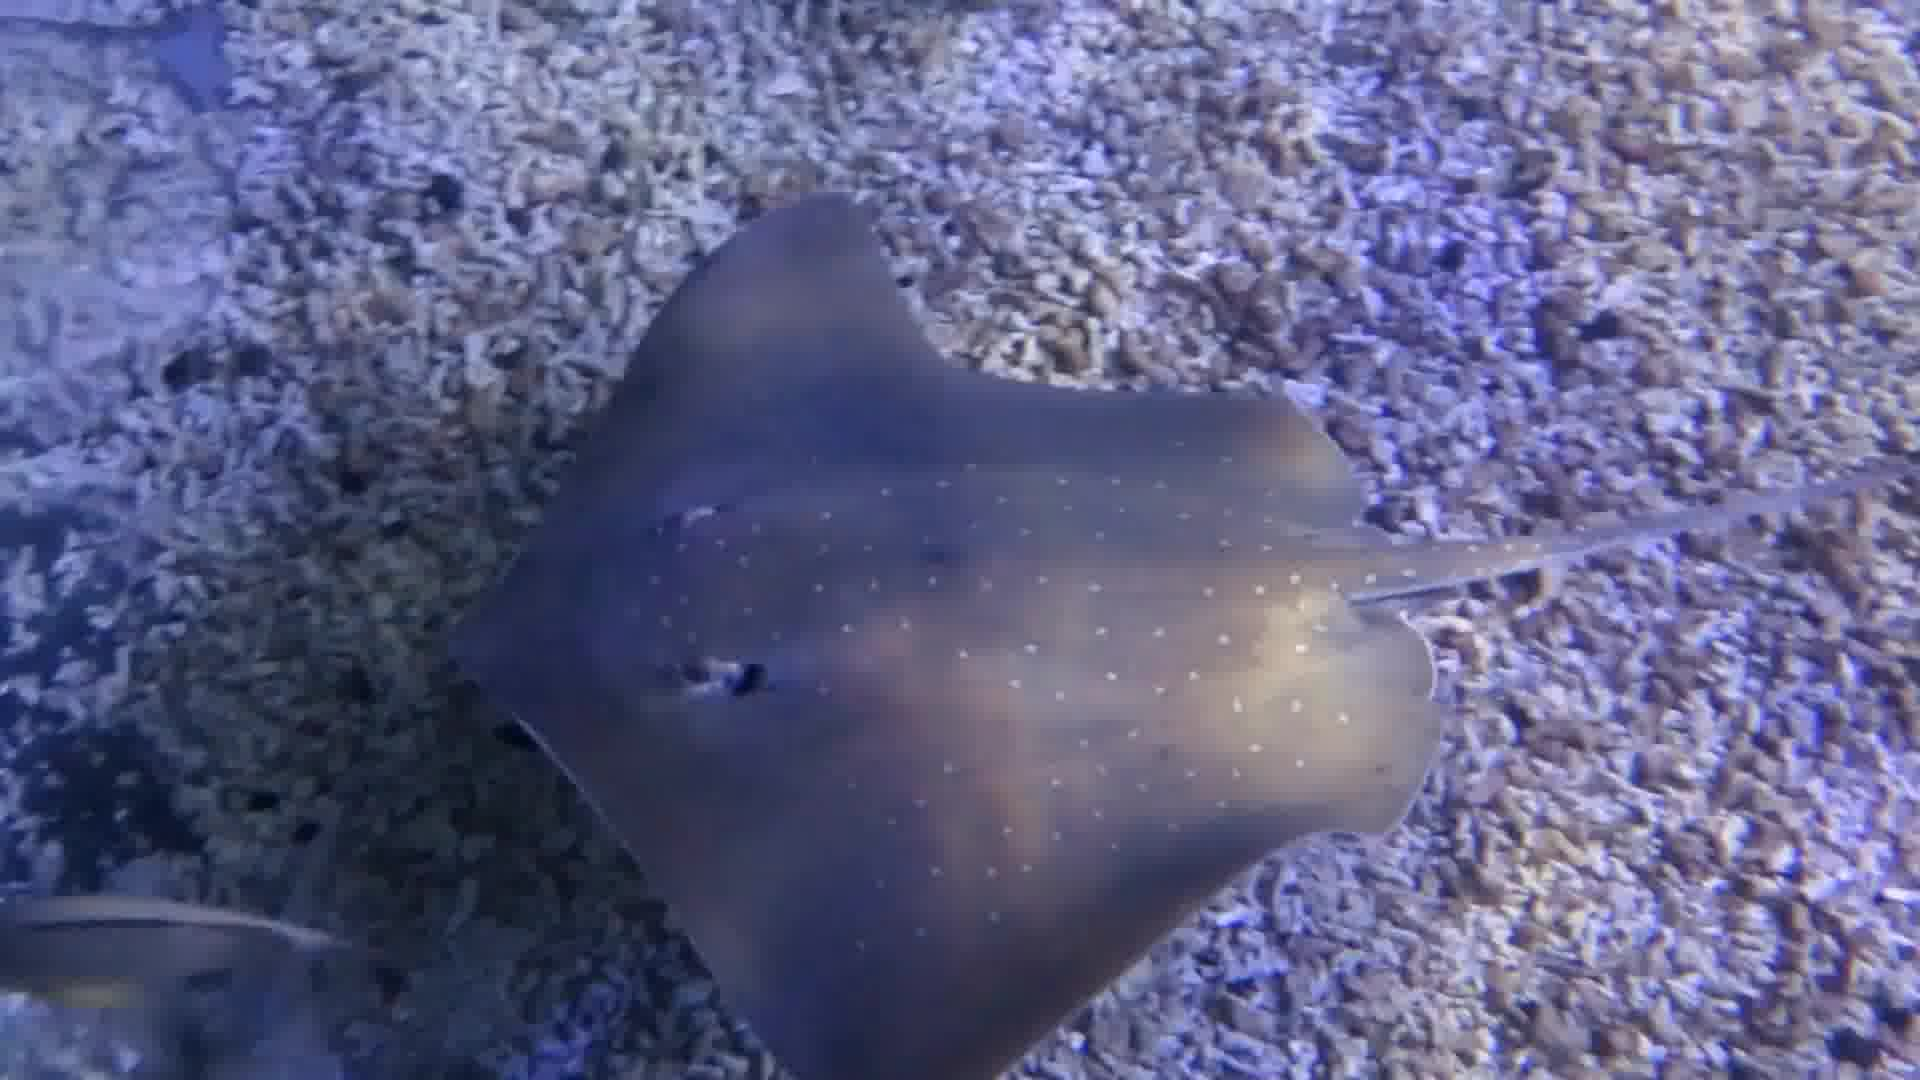Himantura gerrardi: (431, 167, 1907, 1080)
